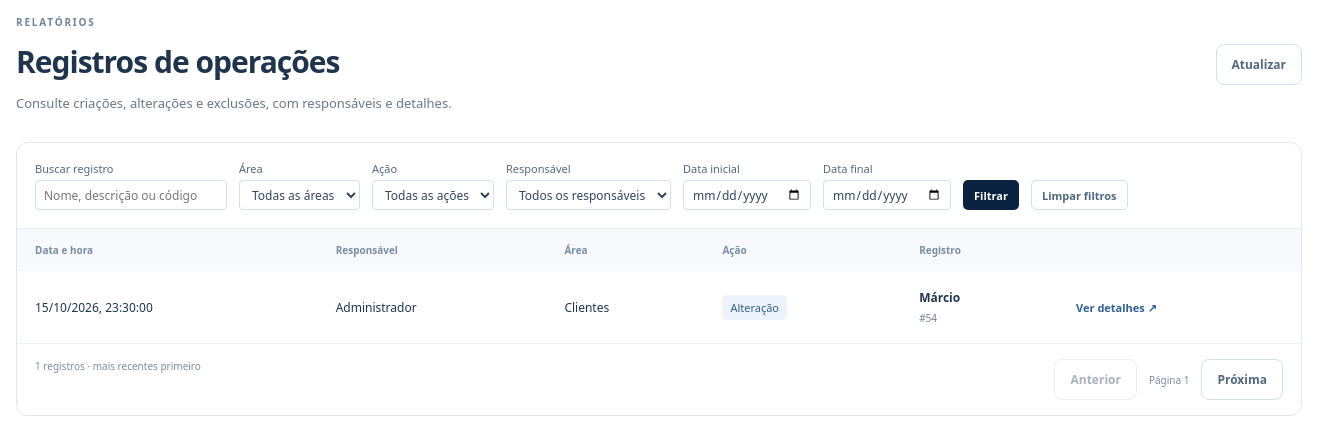
lists recent operations, filters on submit and uses the exact pagination cursor
Expected: the text "Márcio" is shown, [919,289,960,306]
Expected: the text "15/10/2026, 23:30:00" is shown, [17,271,318,344]
Click the button "Próxima" at [1242, 380], box [1201,359,1283,400]
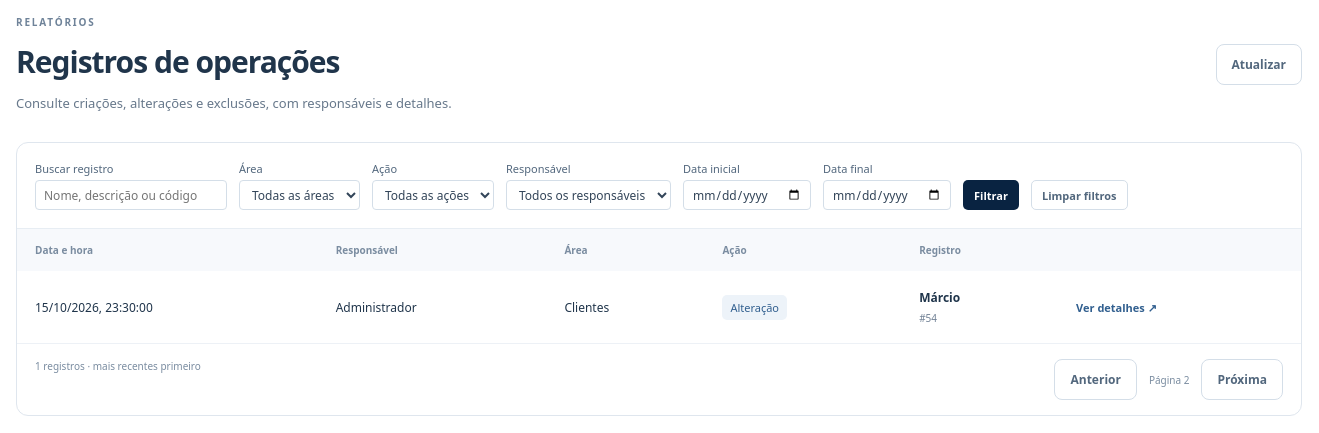
Expected: the button "Filtrar" is enabled, [963,180,1019,210]
Type "Márcio" into the field labelled "Buscar registro" at [131, 195], box [35,180,227,210]
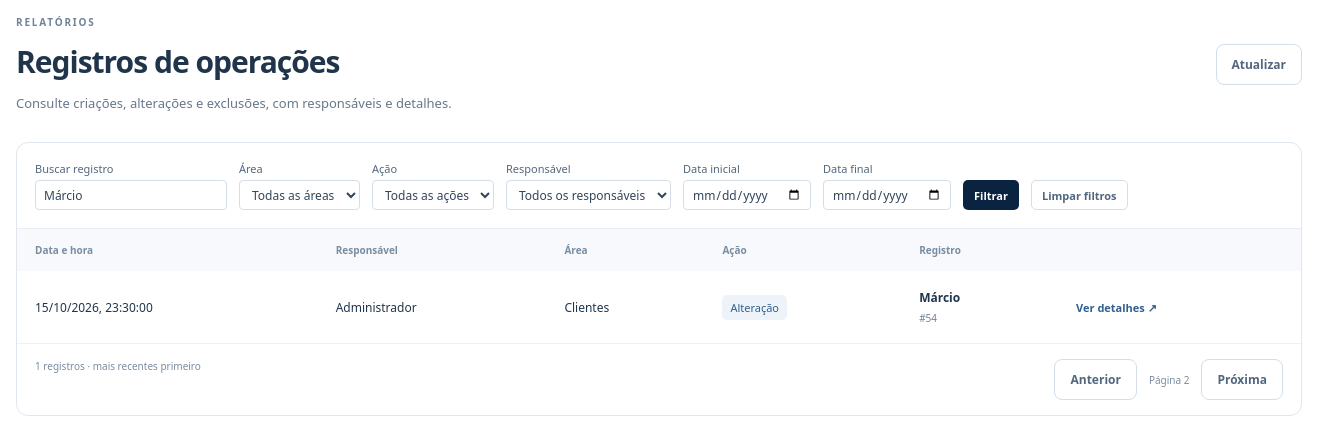
Select "Clientes" in the dropdown labelled "Área" at [300, 195], box [239,180,360,210]
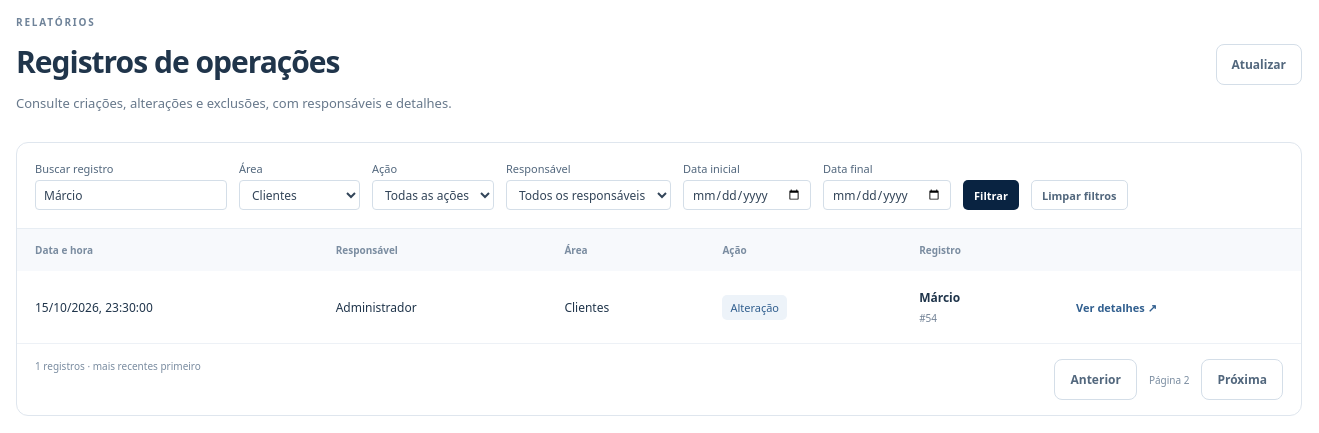
Select "Alteração" in the dropdown labelled "Ação" at [433, 195], box [372,180,494,210]
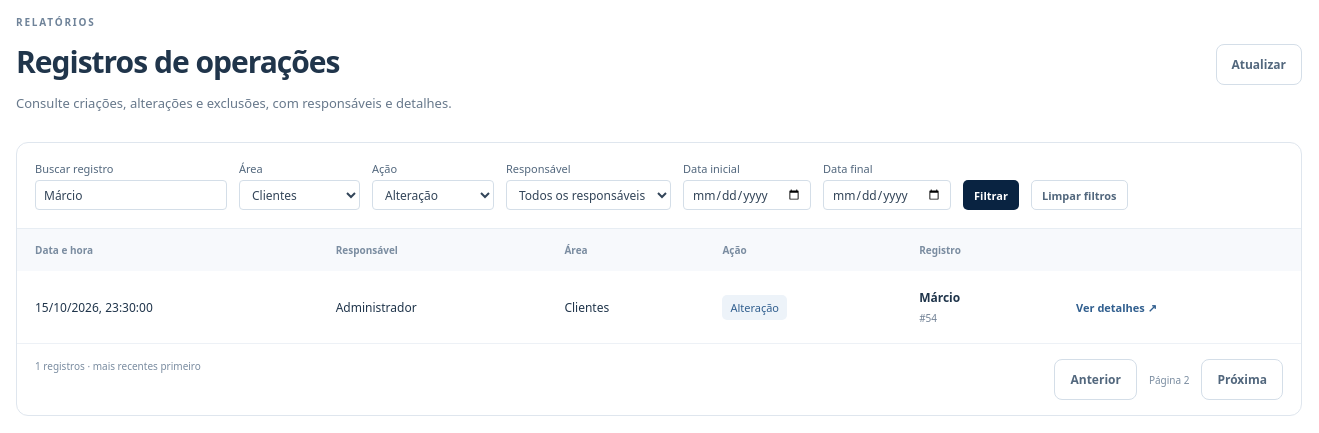
Click the button "Filtrar" at [991, 195], box [963,180,1019,210]
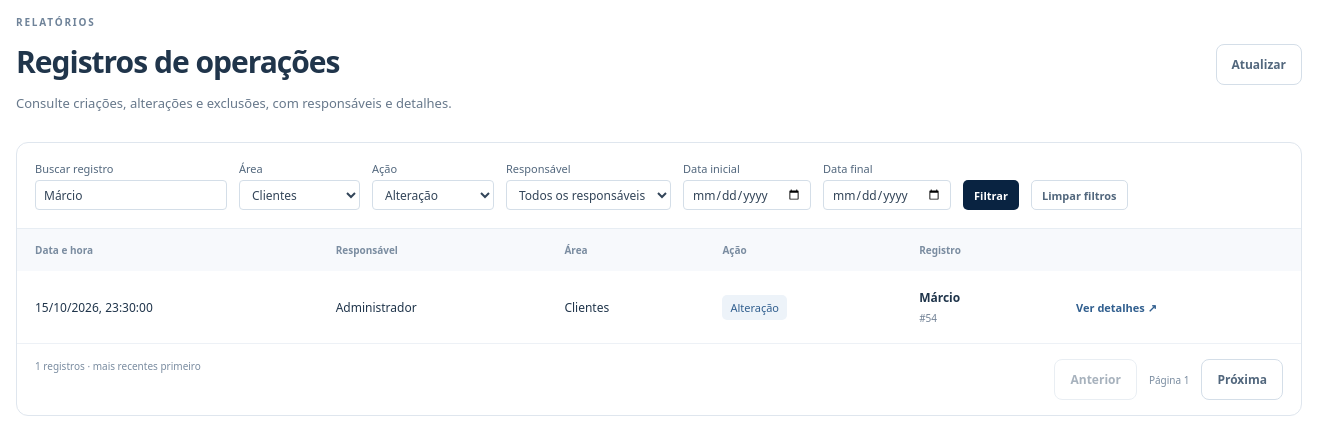
Result: the text "Página 1" is shown at [1149,373,1189,387]
